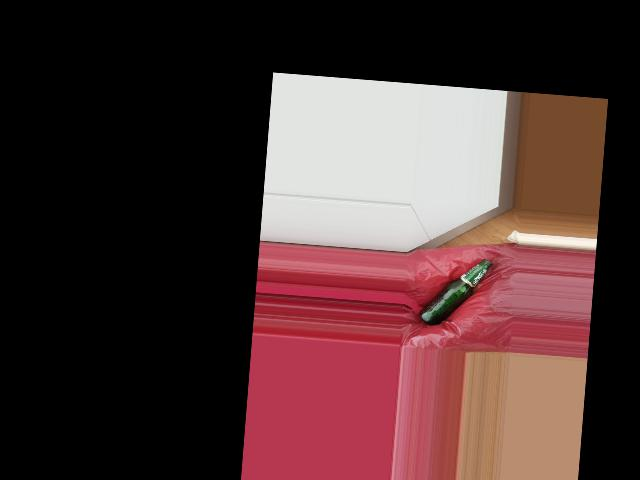beer: (419, 254, 493, 329)
